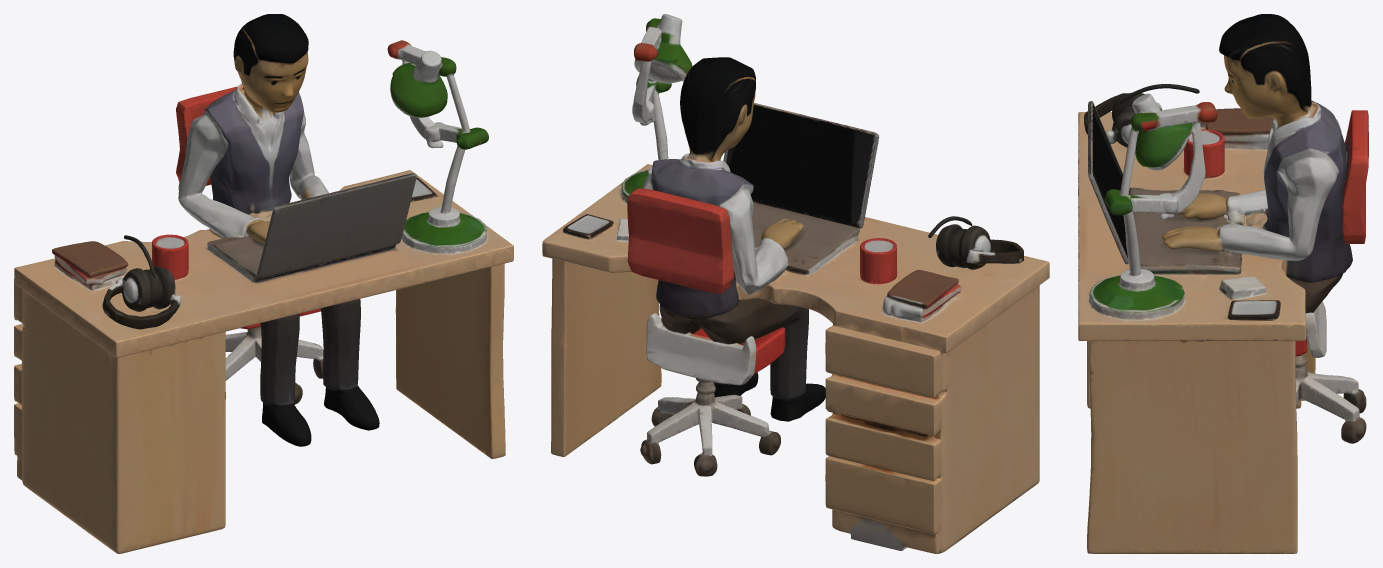
The model's file is carlos-empleado.glb.
3 views of the same model, side by side, from view 1: azimuth 30°, elevation 25°; view 2: azimuth 150°, elevation 25°; view 3: azimuth 270°, elevation 25° (orthographic). The views are drawn at different scales.
Visible parts, largest first — view 1: tripo_node_ddf6fa57-46fc-42e4-9f01-1b27dd97f420; view 2: tripo_node_ddf6fa57-46fc-42e4-9f01-1b27dd97f420; view 3: tripo_node_ddf6fa57-46fc-42e4-9f01-1b27dd97f420.
Part boxes in pixels (left/top/right/bottom): tripo_node_ddf6fa57-46fc-42e4-9f01-1b27dd97f420: left=14, top=14, right=513, bottom=553; tripo_node_ddf6fa57-46fc-42e4-9f01-1b27dd97f420: left=542, top=14, right=1049, bottom=553; tripo_node_ddf6fa57-46fc-42e4-9f01-1b27dd97f420: left=1078, top=14, right=1368, bottom=553.
Bounding box in the file's own units: 0.985 × 1 × 0.5699.
Materials: 1 (1 with a texture image).
